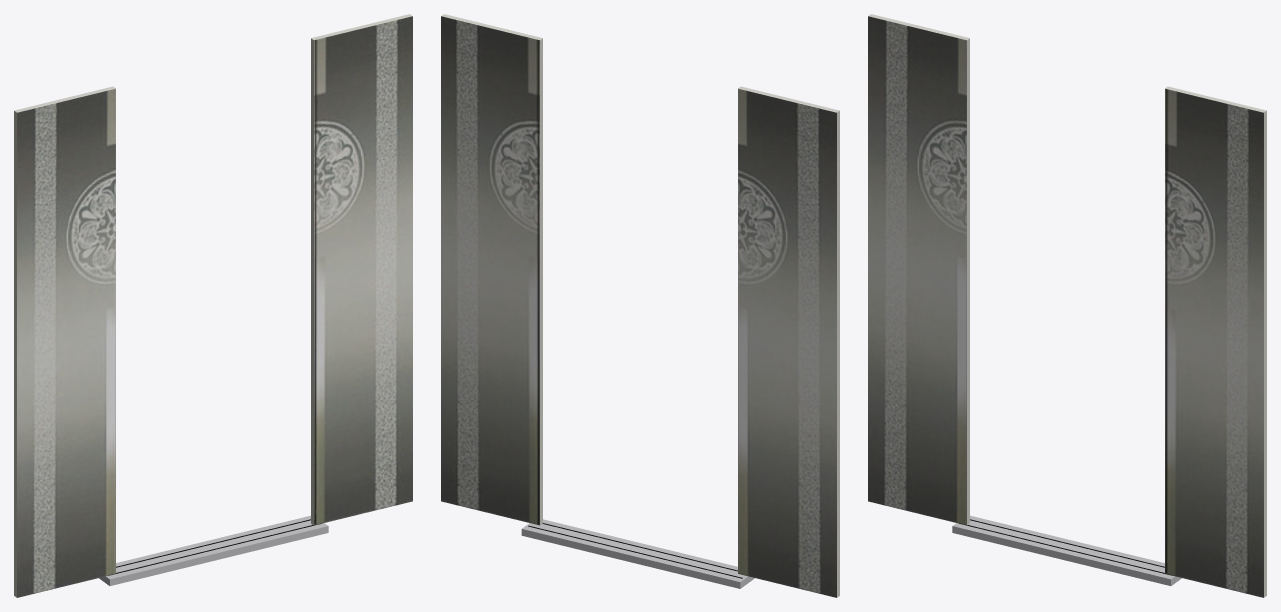
File: cabin_door_TM013.glb
3 views of the same model, side by side, from view 1: azimuth 30°, elevation 25°; view 2: azimuth 150°, elevation 25°; view 3: azimuth 330°, elevation 25° (orthographic).
Parts seen in each view (by area): view 1: Car_Door_L, Car_Door_R, Door_Sill; view 2: Car_Door_L, Car_Door_R, Door_Sill; view 3: Car_Door_R, Car_Door_L, Door_Sill.
Part boxes in pixels (<box>): Car_Door_L: <box>14,86,115,597</box>; Car_Door_R: <box>311,14,412,525</box>; Door_Sill: <box>99,515,328,585</box>; Car_Door_L: <box>738,86,839,597</box>; Car_Door_R: <box>441,14,542,525</box>; Door_Sill: <box>521,519,754,588</box>; Car_Door_R: <box>1165,86,1266,597</box>; Car_Door_L: <box>868,14,969,525</box>; Door_Sill: <box>952,515,1181,585</box>.
Size of the model in its own units: 1.81 by 2.15 by 0.12.
3 materials, 1 textured.
